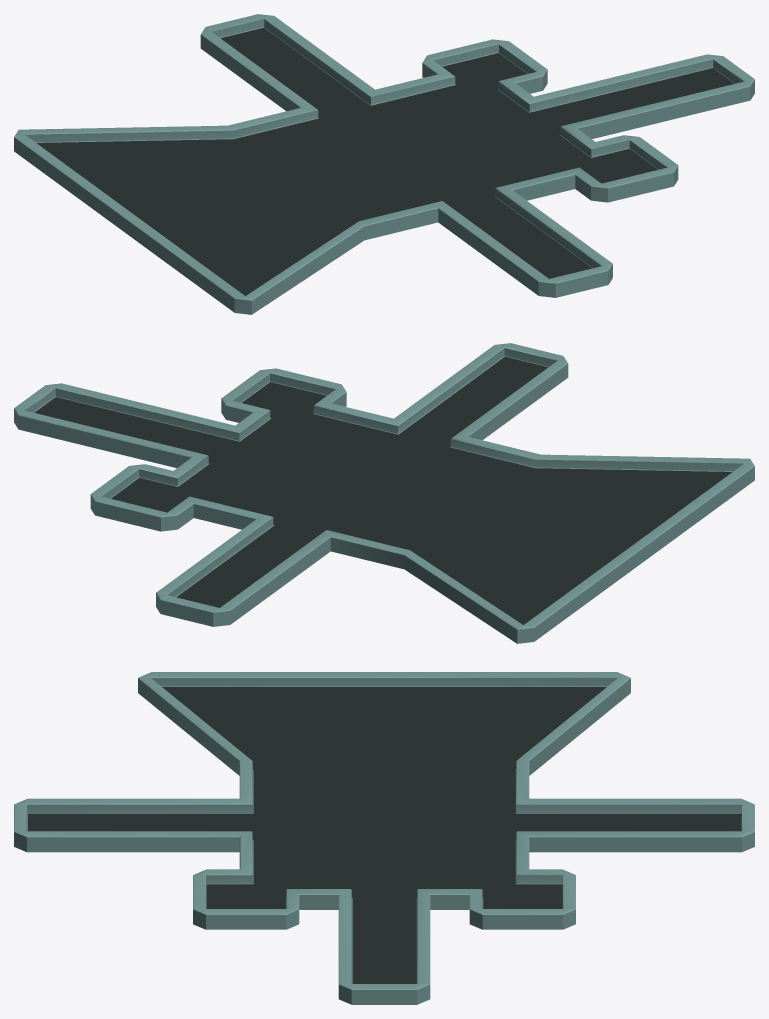
The model's file is Arena.fbx.
The picture shows the model from 3 angles, top to bottom: view 1: azimuth 30°, elevation 25°; view 2: azimuth 150°, elevation 25°; view 3: azimuth 270°, elevation 25°; orthographic projection. The views are drawn at different scales.
Parts seen in each view (by area): view 1: Arena_Bloking2:arena; view 2: Arena_Bloking2:arena; view 3: Arena_Bloking2:arena.
Boxes of the visible parts, x1,y1,x2,y2 form: Arena_Bloking2:arena: [14, 14, 754, 314]; Arena_Bloking2:arena: [14, 343, 754, 643]; Arena_Bloking2:arena: [14, 672, 754, 1004].
Bounding box in the file's own units: 4172 × 96.54 × 4117.
Materials: 1 (1 with a texture image).
